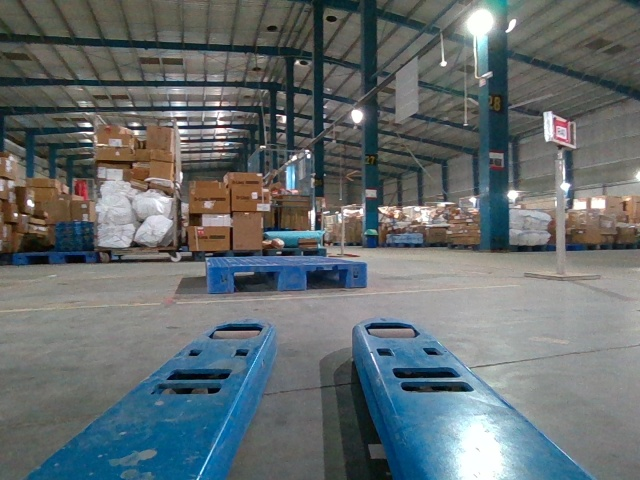pallet: (207, 262, 366, 293)
